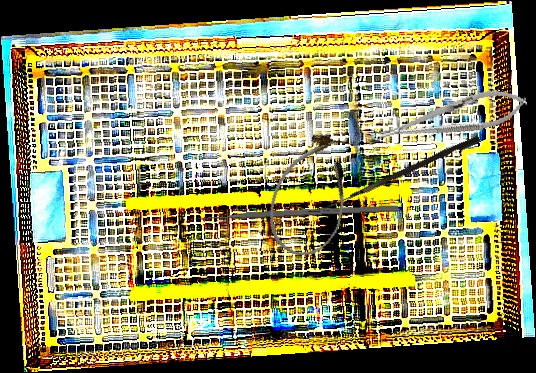Cannula: (256, 124, 367, 266)
Hook Surgical: (313, 132, 481, 222)
Needle Holder: (374, 82, 531, 153)
Pusher: (188, 204, 399, 223)
